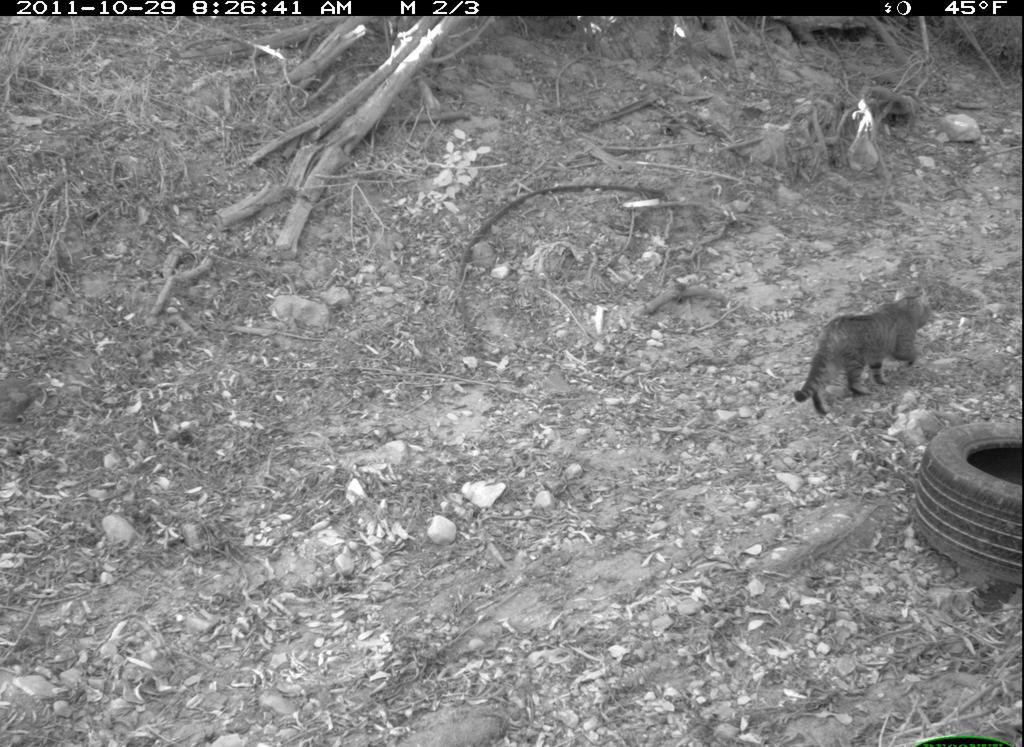cat: (777, 272, 963, 415)
